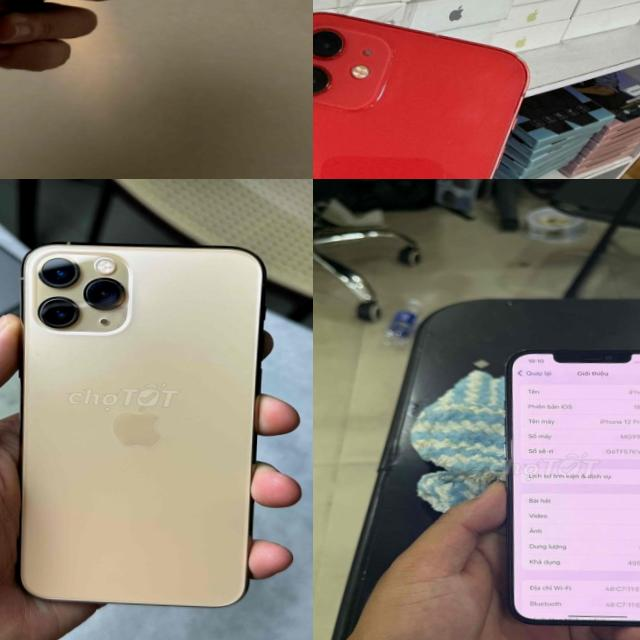gen_11: (0, 225, 281, 624)
gen_12_13: (494, 337, 640, 631), (313, 3, 531, 179), (0, 0, 222, 122)
